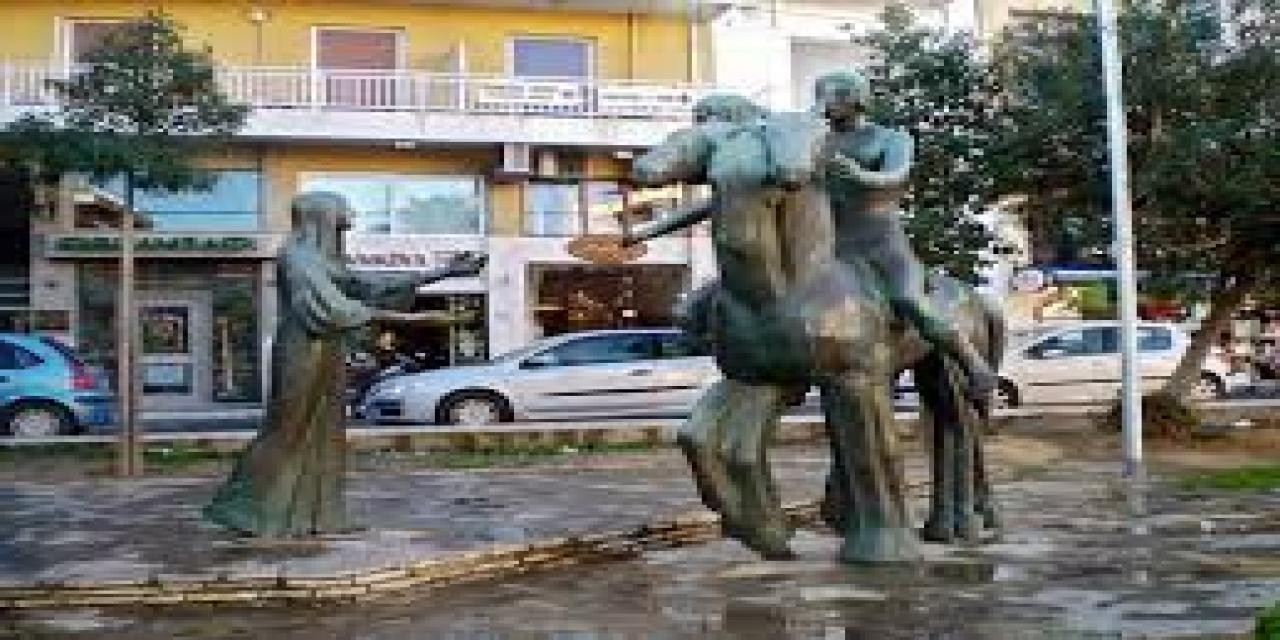Aretousa: (203, 71, 1007, 567)
